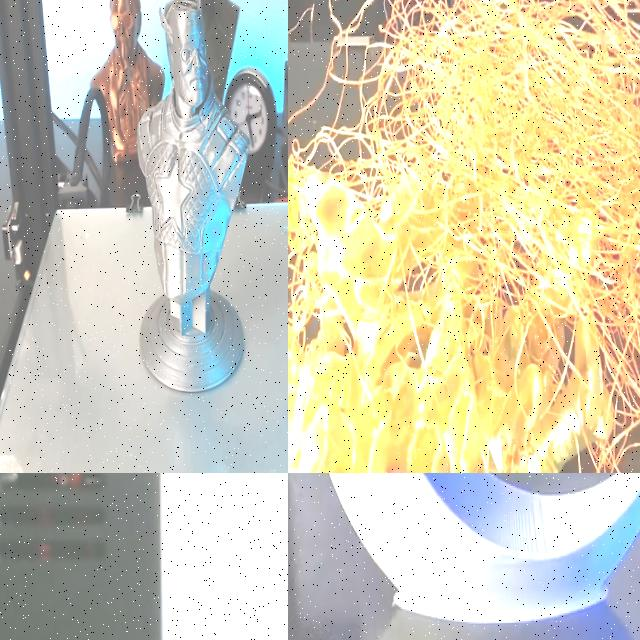spaghetti: (288, 0, 640, 473)
